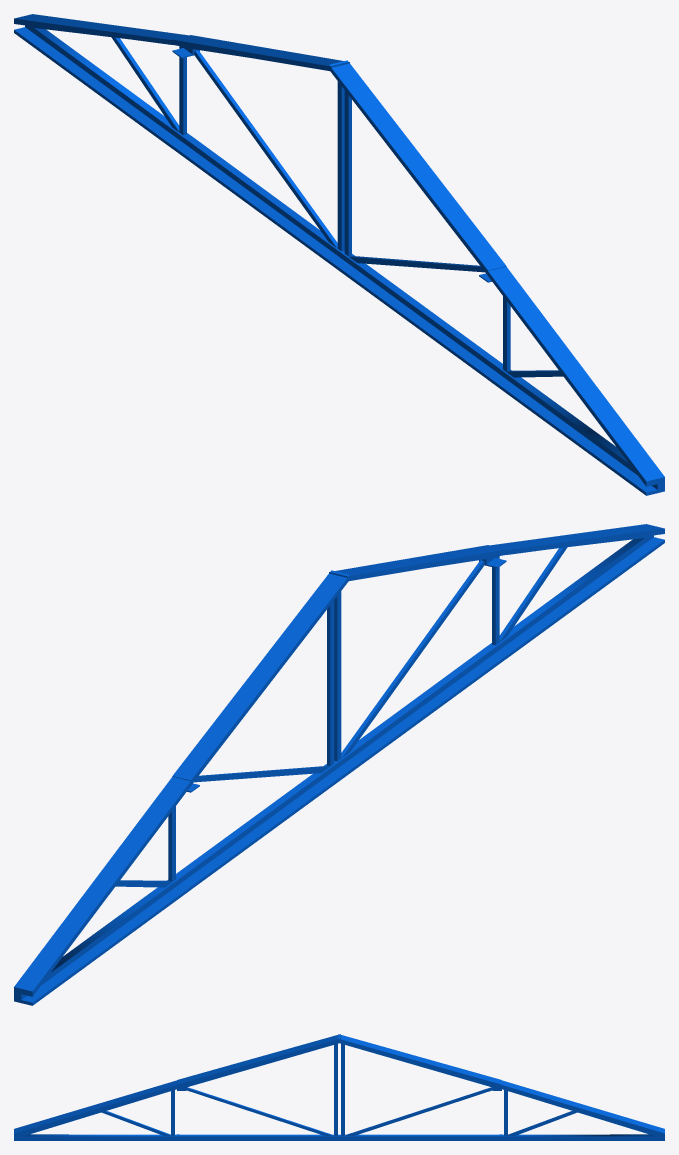
The model's file is Warehouse_01_Metal_01.fbx.
3 renders of one model, top to bottom at view 1: azimuth 30°, elevation 25°; view 2: azimuth 150°, elevation 25°; view 3: azimuth 270°, elevation 25°, orthographic. The views are drawn at different scales.
Visible parts, largest first — view 1: Warehouse_01_Metal_01; view 2: Warehouse_01_Metal_01; view 3: Warehouse_01_Metal_01.
Boxes of the visible parts, <box> form: Warehouse_01_Metal_01: <box>14,14,664,495</box>; Warehouse_01_Metal_01: <box>14,524,664,1005</box>; Warehouse_01_Metal_01: <box>14,1034,664,1140</box>.
Size of the model in its own units: 20.06 by 205 by 1185.
